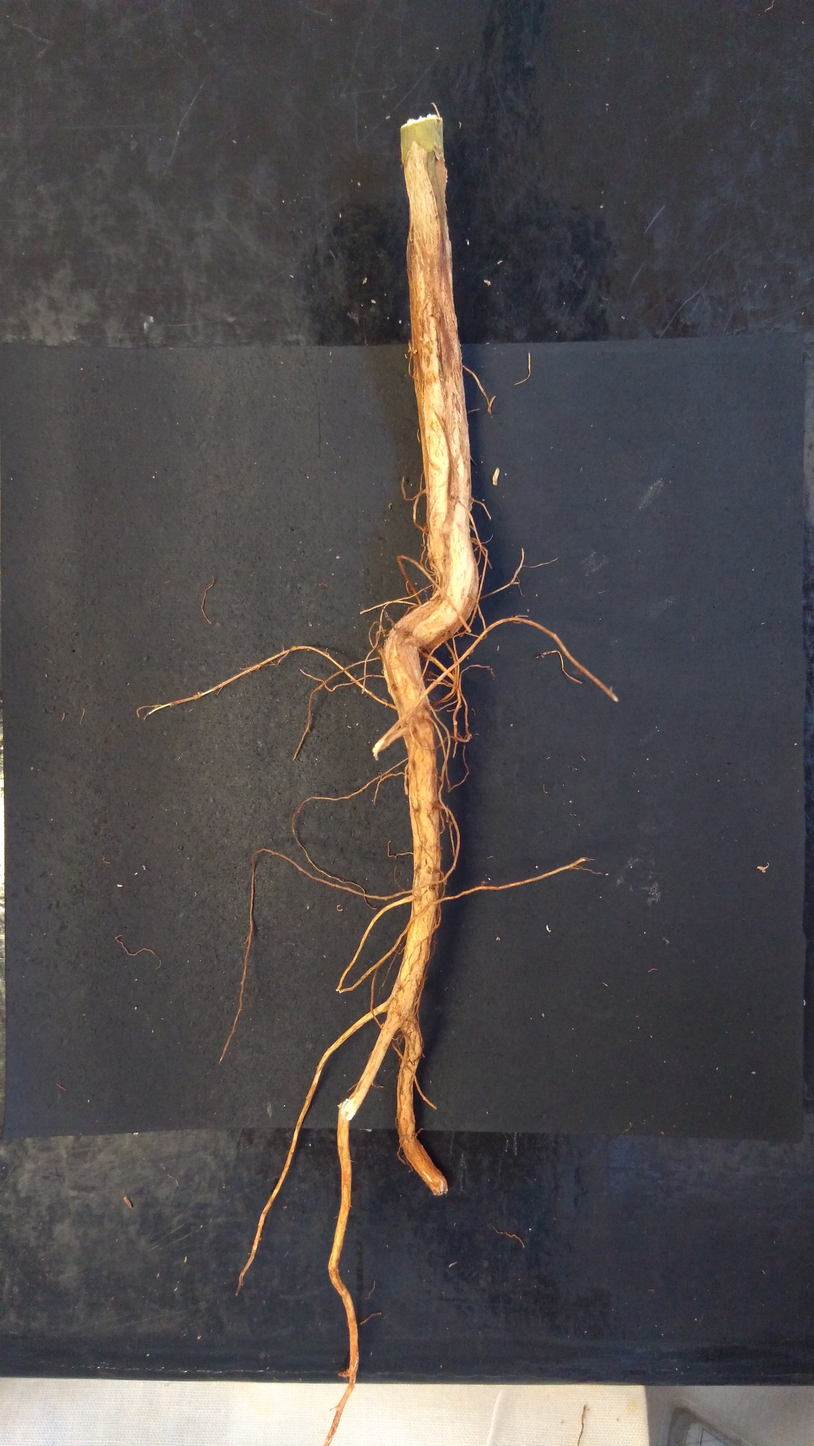nodule: (423, 522, 429, 537), (468, 495, 473, 512)
